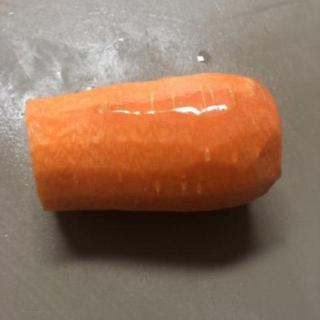carrot: (25, 71, 284, 215)
